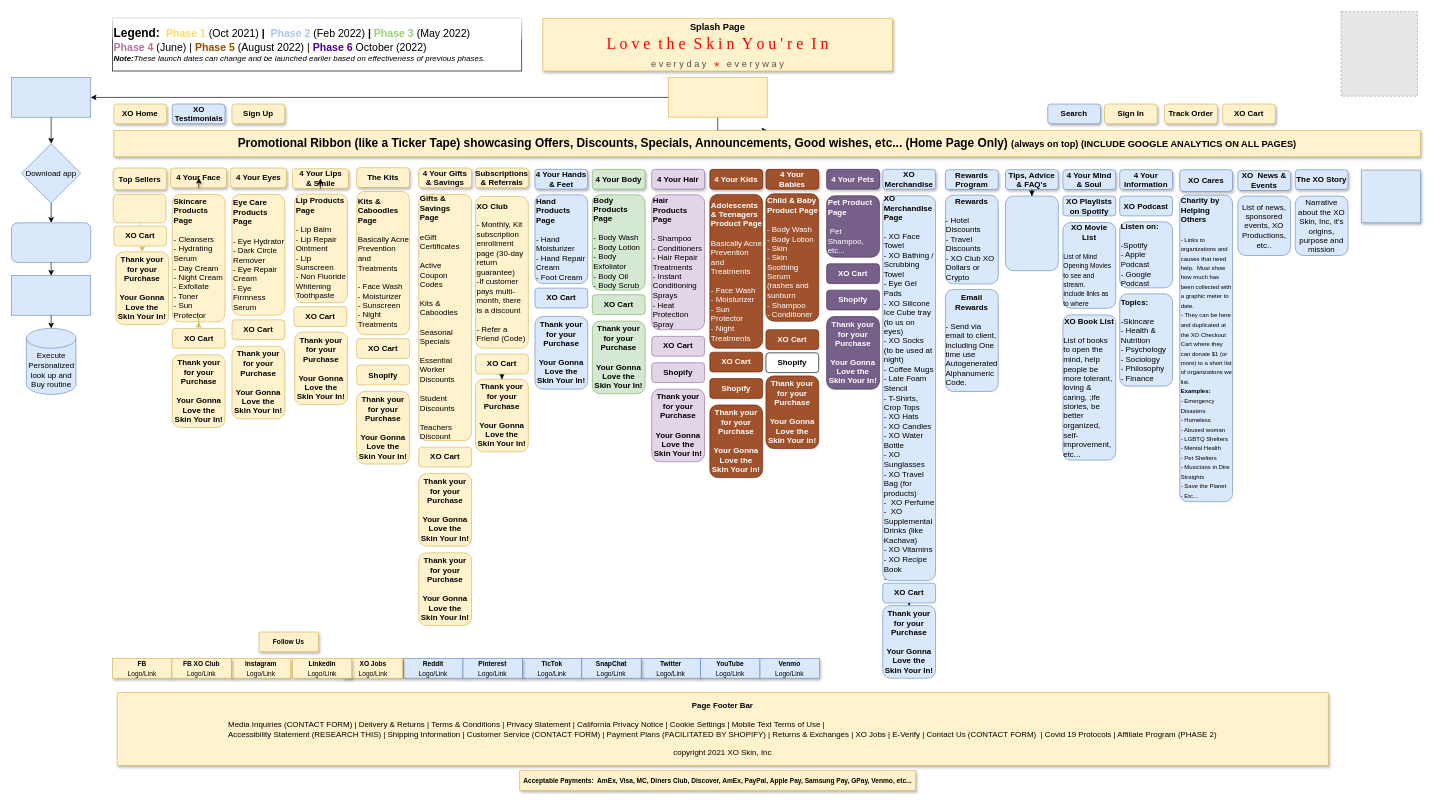
Some shapes in this 1436 by 807 pixel diagram are drawn without their labels. Grey dashed boxes stand in for pictures. The centre of each missing label's shape, as x and y in pixels:
"Best Sellers Page" belongs at pixel 139 208.
"Chat Box Live Chat or AChatBot" belongs at pixel 1391 197.
"Default Site Index Page" belongs at pixel 717 97.
"Do you want to download our personalized Skin care app?" belongs at pixel 51 97.
"Education - Articles - Videos - Slides - Skincare - Routines etc..." belongs at pixel 1031 233.
"Initiate App" belongs at pixel 51 295.
"Load App on Mobile device" belongs at pixel 51 242.
